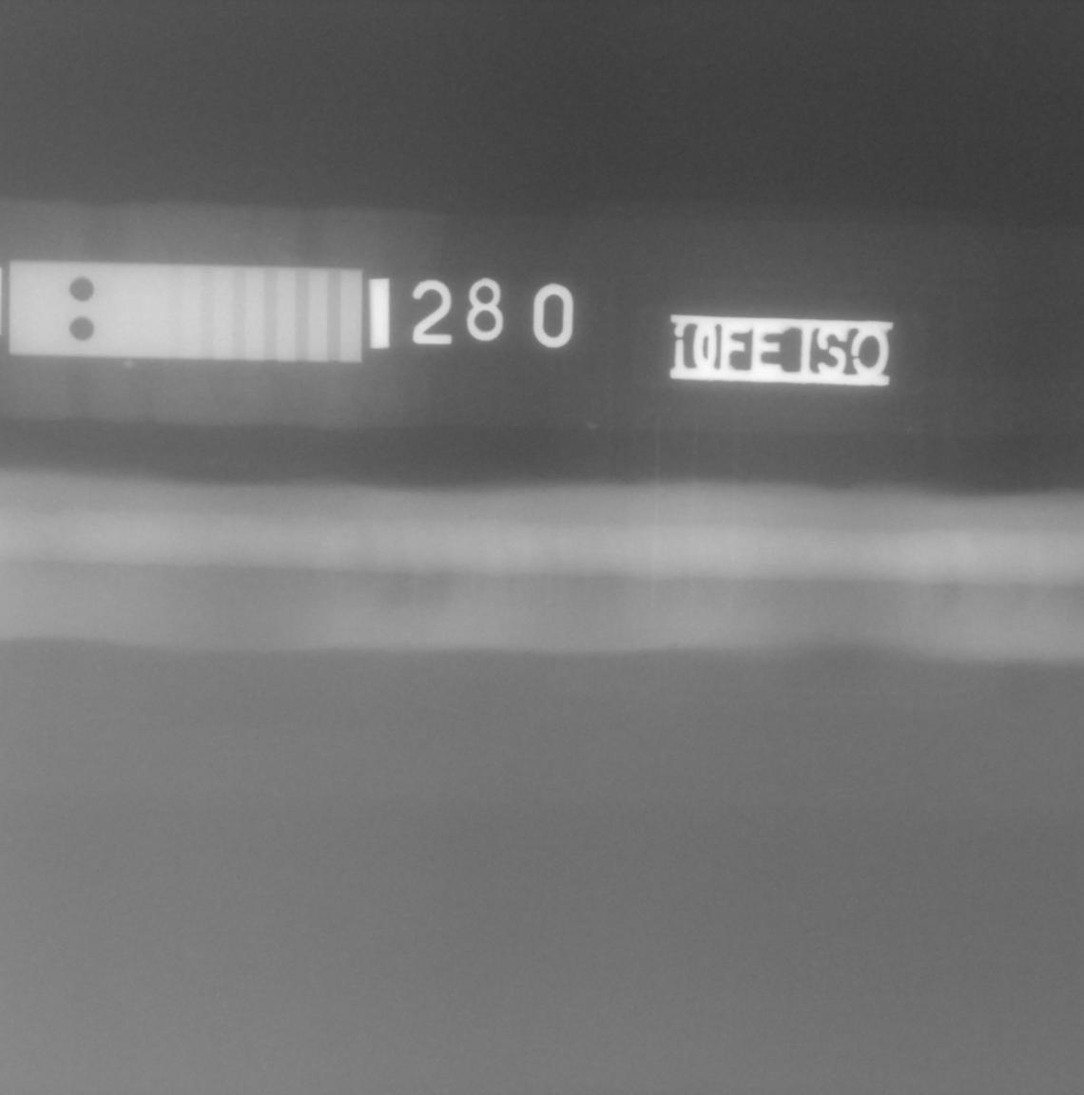Reference Standard 2: (8, 260, 362, 363)
